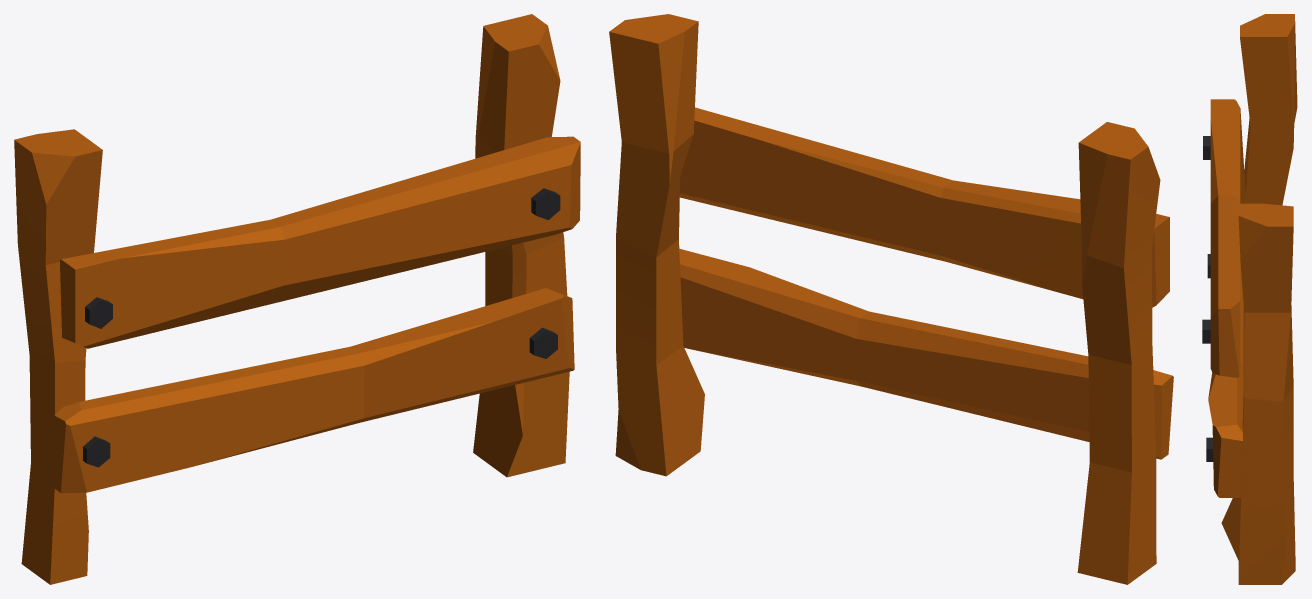
File: Fence_3.fbx
3 views of the same model, side by side, from view 1: azimuth 30°, elevation 25°; view 2: azimuth 150°, elevation 25°; view 3: azimuth 270°, elevation 25° (orthographic). The views are drawn at different scales.
Parts seen in each view (by area): view 1: Fence_3; view 2: Fence_3; view 3: Fence_3.
Boxes of the visible parts, x1,y1,x2,y2 form: Fence_3: [14, 14, 580, 584]; Fence_3: [609, 14, 1173, 584]; Fence_3: [1202, 14, 1297, 584].
Bounding box in the file's own units: 44.18 × 34.24 × 8.23.
